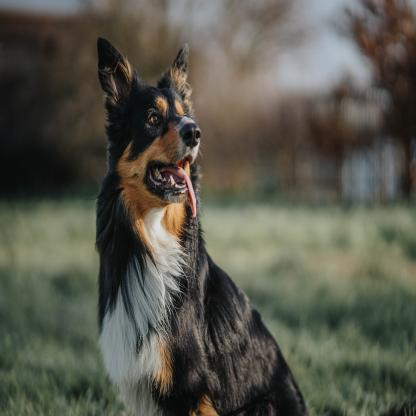dog: (88, 34, 304, 416)
